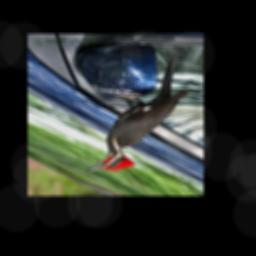Woodpecker: (85, 46, 191, 172)
